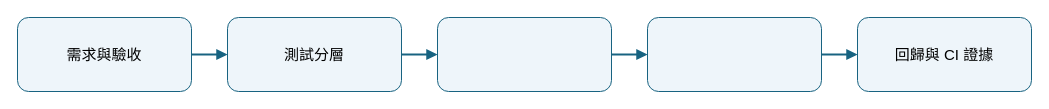
Some shapes in this 1049 by 109 pixel diagram are drawn without their labels. The shapes that lost their labels are listed below. From the top down, each one's centre as x and y in pixels, then its label:
At point 524,54: "可重現失敗".
At point 734,54: "最小修正".
